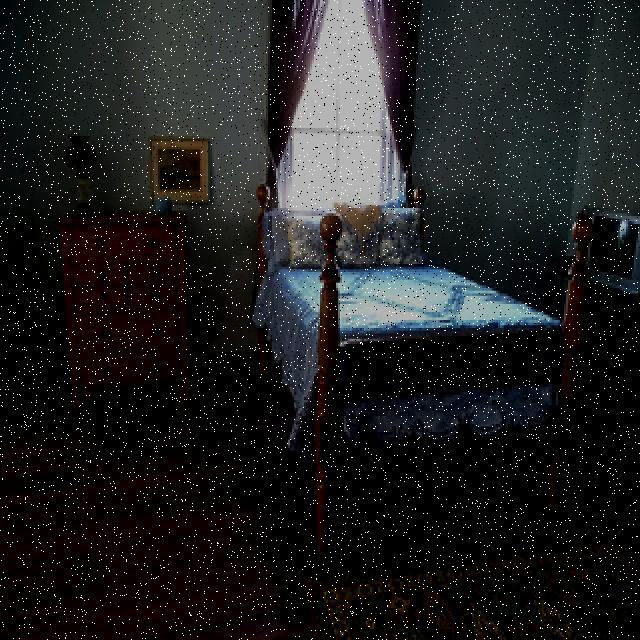bed: (259, 190, 581, 447)
